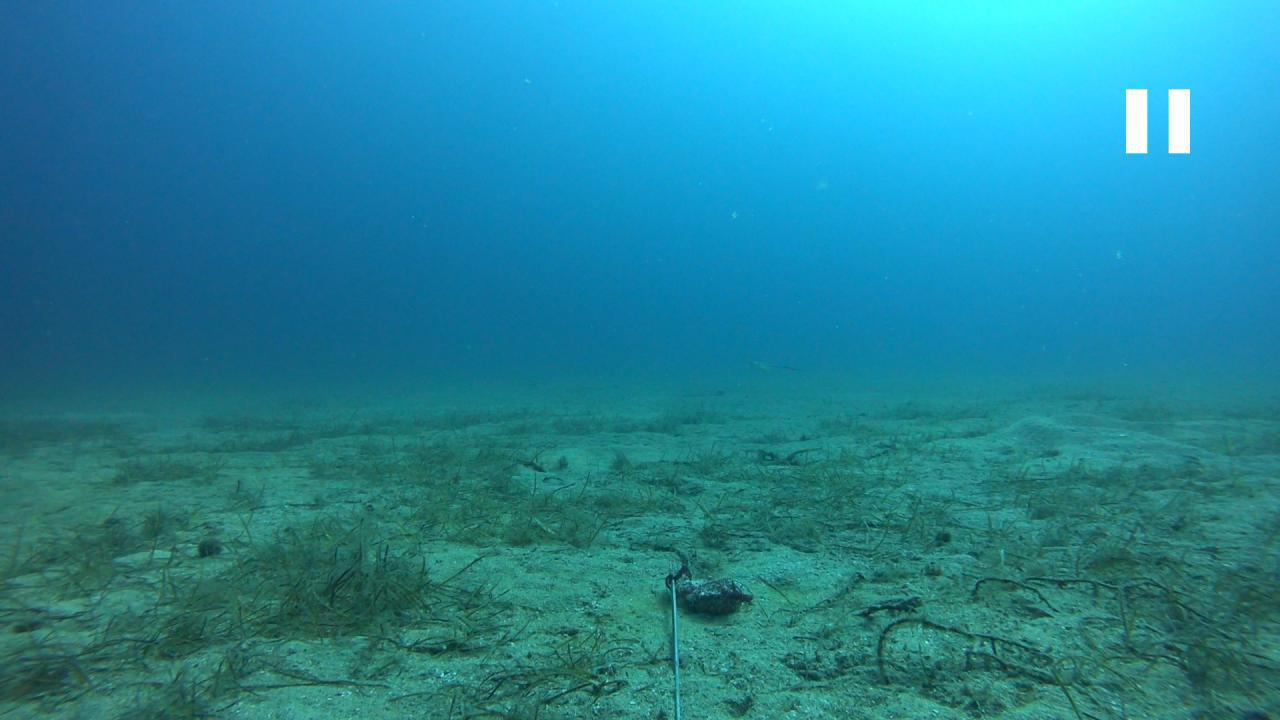dasyatis: (747, 357, 801, 371)
